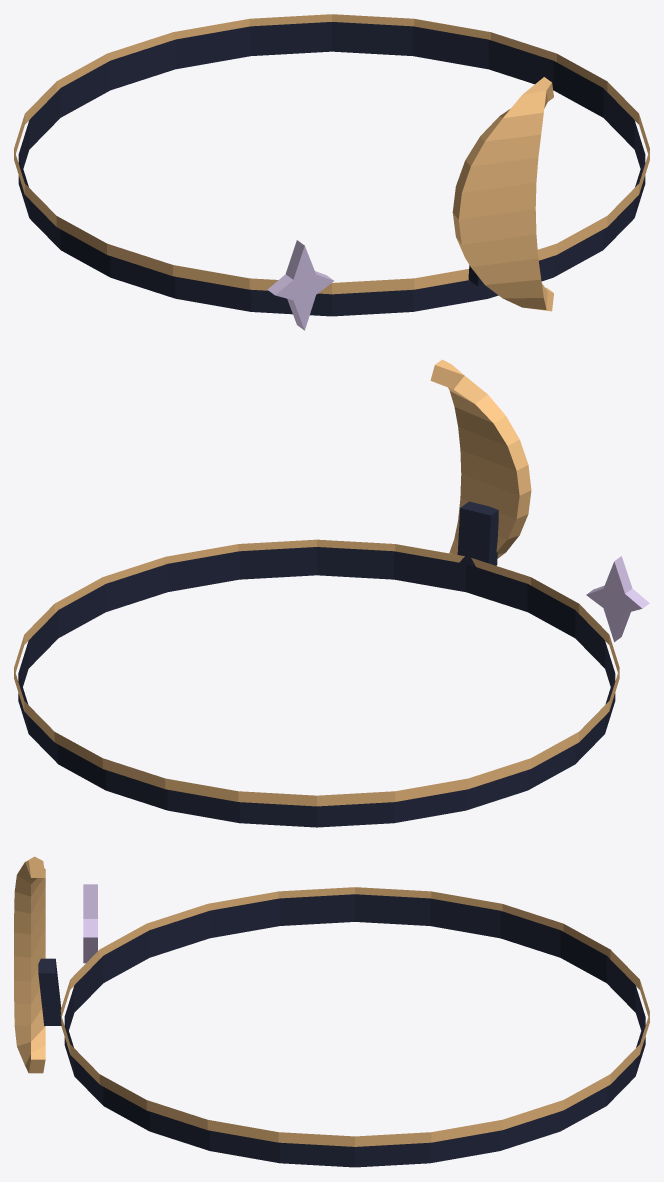
The model's file is hat-moonwake-crescent.glb.
3 views of the same model, one above another, from view 1: azimuth 30°, elevation 25°; view 2: azimuth 150°, elevation 25°; view 3: azimuth 270°, elevation 25° (orthographic). The views are drawn at different scales.
Parts seen in each view (by area): view 1: hat-moonwake-crescent_ref2_hat-moonwake-crescent__head_mesh; view 2: hat-moonwake-crescent_ref2_hat-moonwake-crescent__head_mesh; view 3: hat-moonwake-crescent_ref2_hat-moonwake-crescent__head_mesh.
Part boxes in pixels (x1,y1,x2,y2): hat-moonwake-crescent_ref2_hat-moonwake-crescent__head_mesh: (14, 14, 649, 330); hat-moonwake-crescent_ref2_hat-moonwake-crescent__head_mesh: (14, 359, 649, 827); hat-moonwake-crescent_ref2_hat-moonwake-crescent__head_mesh: (14, 856, 649, 1167).
Size of the model in its own units: 0.406 by 0.1613 by 0.4378.
